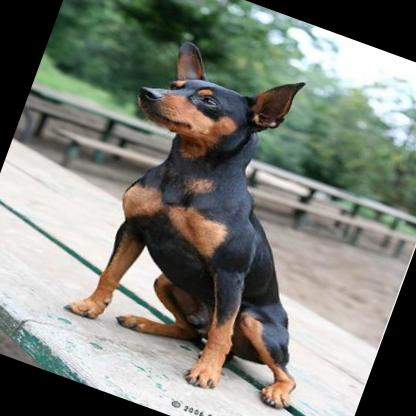miniature_pinscher: (46, 26, 393, 416)
